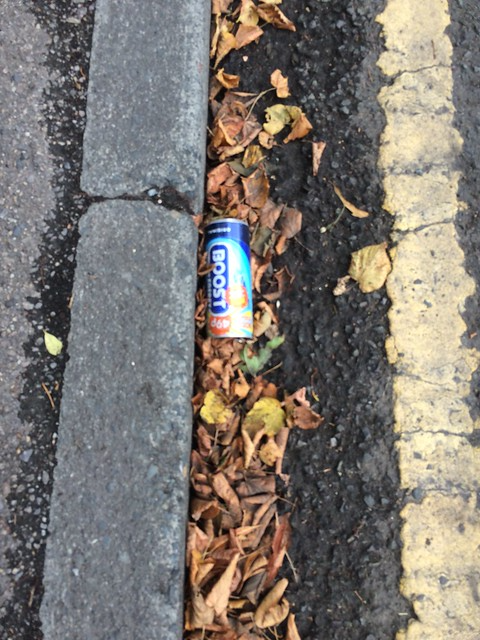can: (195, 209, 262, 345)
